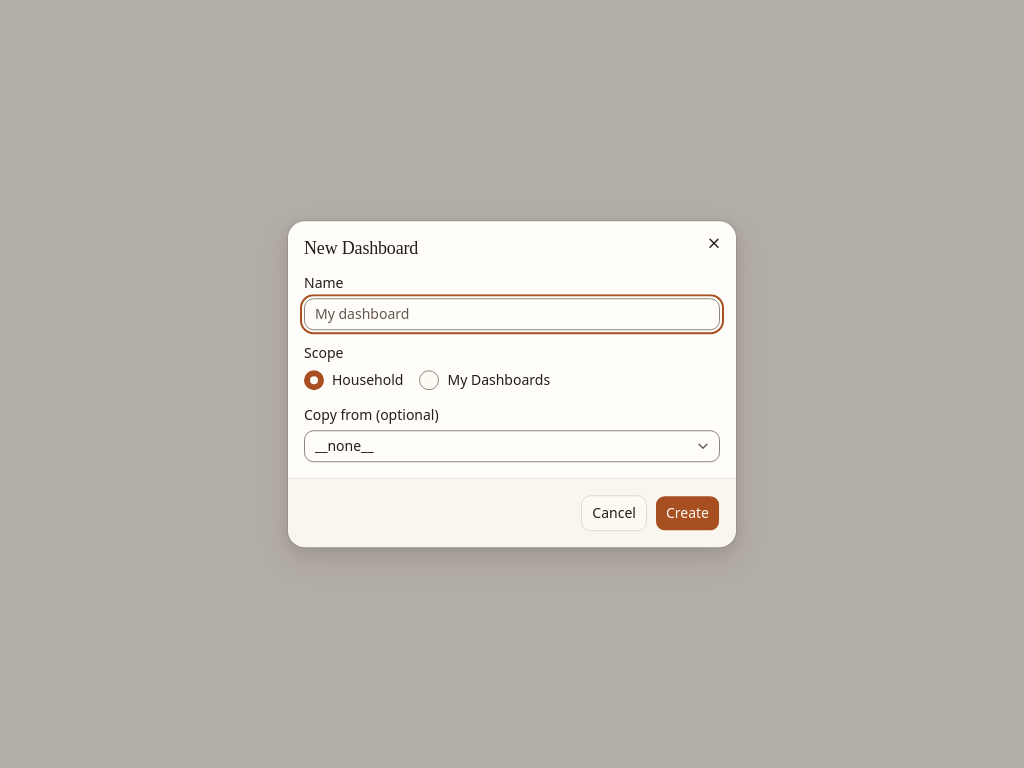
Scenario: NewDashboardModal › rejects empty name
What coordinates should you click on to do the following:
click the button "Create"
I would click on:
 (687, 513)
Its box is left=655, top=495, right=720, bottom=531.
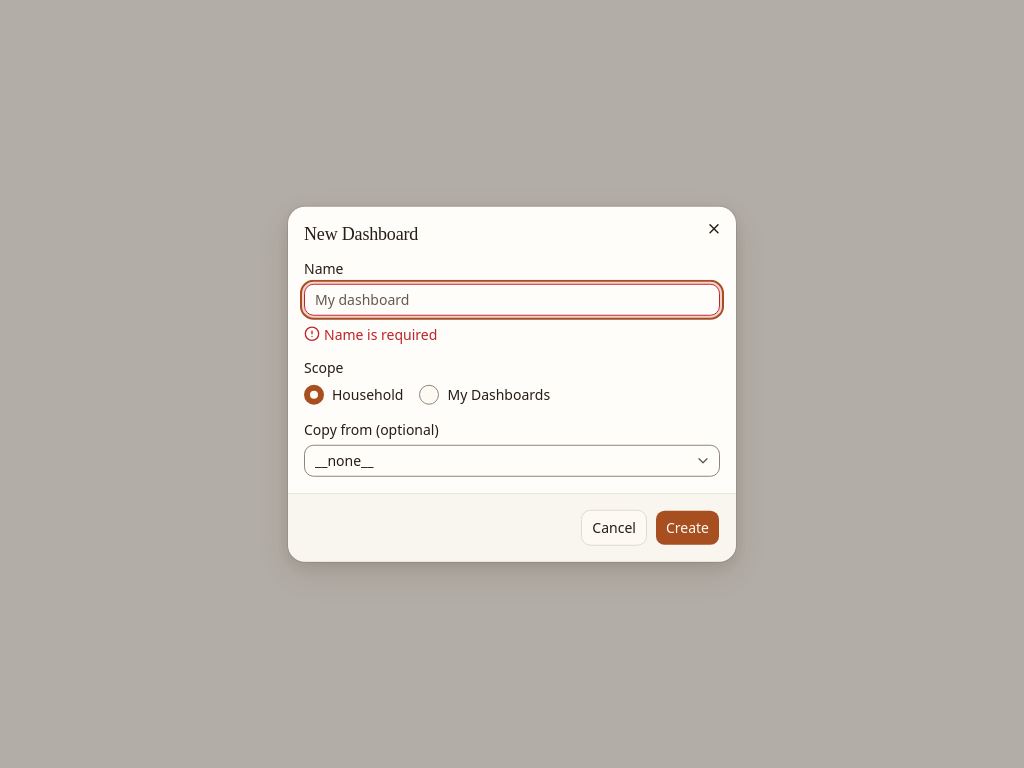
Check: the text "Name is required" is shown, box left=304, top=324, right=437, bottom=343
